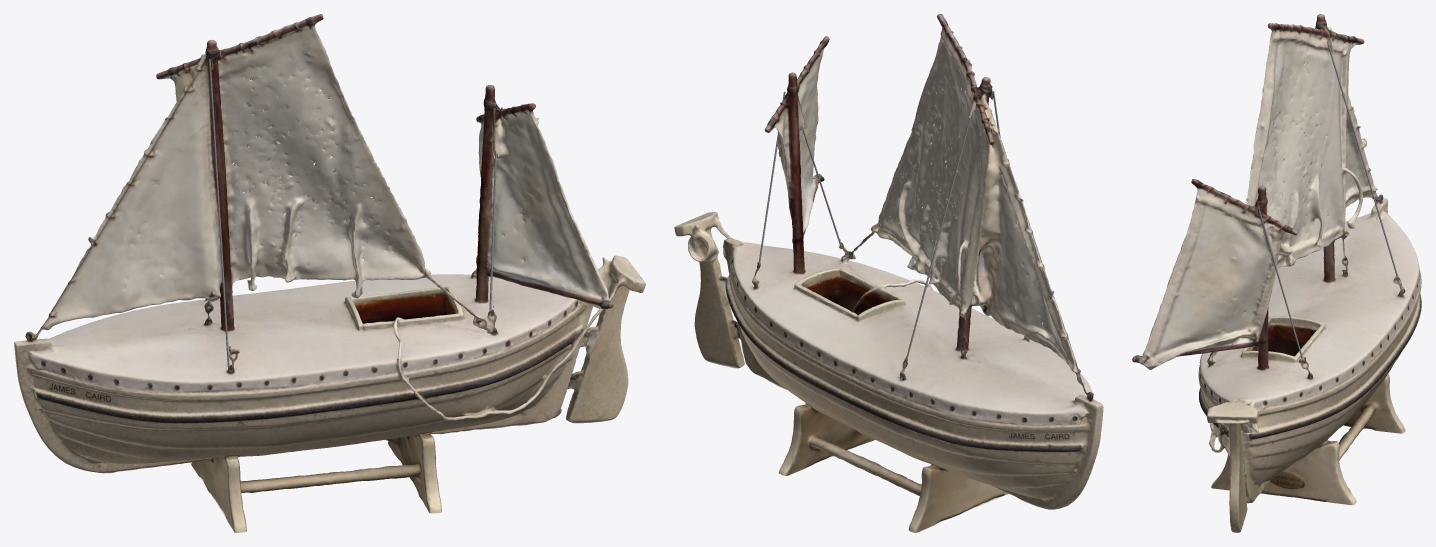
The model's file is james_caird_watt.glb.
3 views of the same model, side by side, from view 1: azimuth 30°, elevation 25°; view 2: azimuth 150°, elevation 25°; view 3: azimuth 270°, elevation 25° (orthographic). The views are drawn at different scales.
Visible parts, largest first — view 1: Object_3, Object_2; view 2: Object_3, Object_2; view 3: Object_3, Object_2.
Boxes of the visible parts, x1,y1,x2,y2 form: Object_3: (14,14,645,532); Object_2: (209,59,502,369); Object_3: (674,14,1103,532); Object_2: (758,91,1028,381); Object_3: (1132,14,1421,532); Object_2: (1259,26,1404,358).
Size of the model in its own units: 10.41 by 9.13 by 5.6.
Materials: 2 (1 with a texture image).
